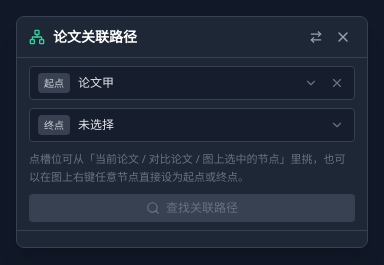
ConnectionPanel slot picker › never offers the paper already sitting in that slot
This screenshot has width=384, height=265.
Click the button with aria-label "选择关联起点": (186, 83) [78,75,294,91]
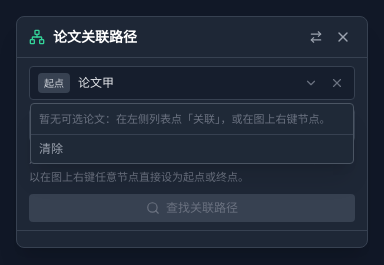
Expected: the text "暂无可选论文：在左侧列表点「关联」，或在图上右键节点。" is shown, [39,111,330,126]
